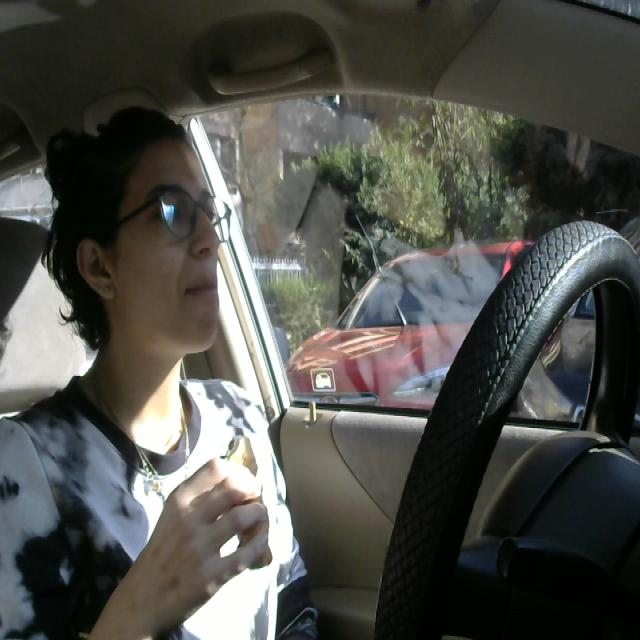eating: (210, 411, 292, 589)
